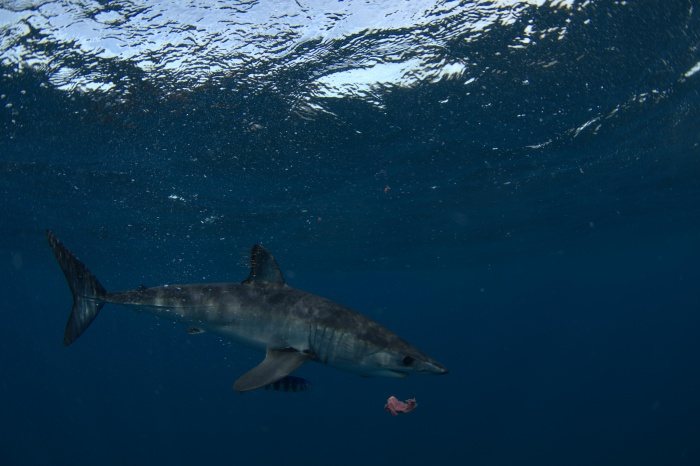Mako: (35, 217, 454, 414)
